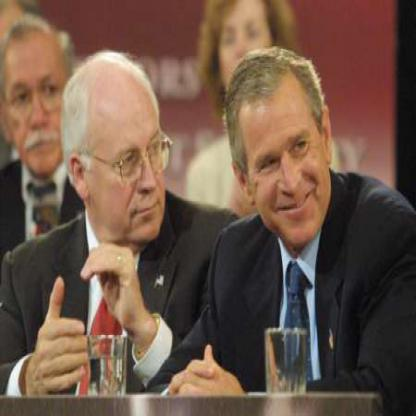face: (83, 60, 174, 252), (244, 58, 328, 250), (6, 19, 71, 174), (217, 1, 274, 102)
